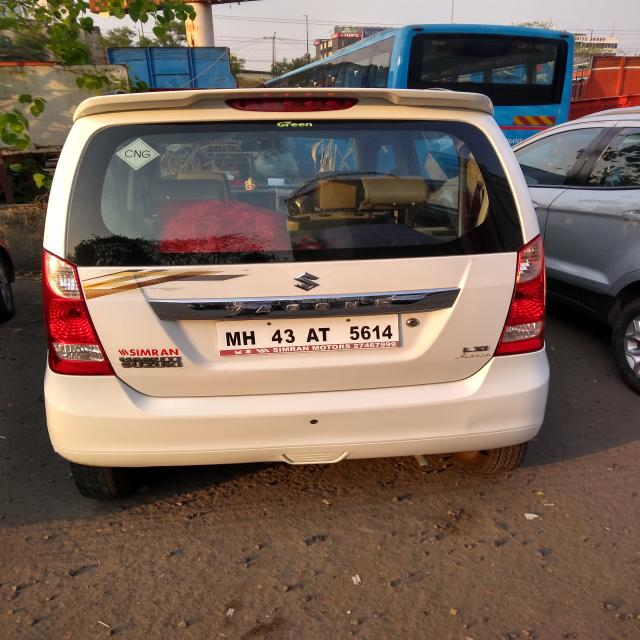Number-Plate: (220, 317, 403, 350)
